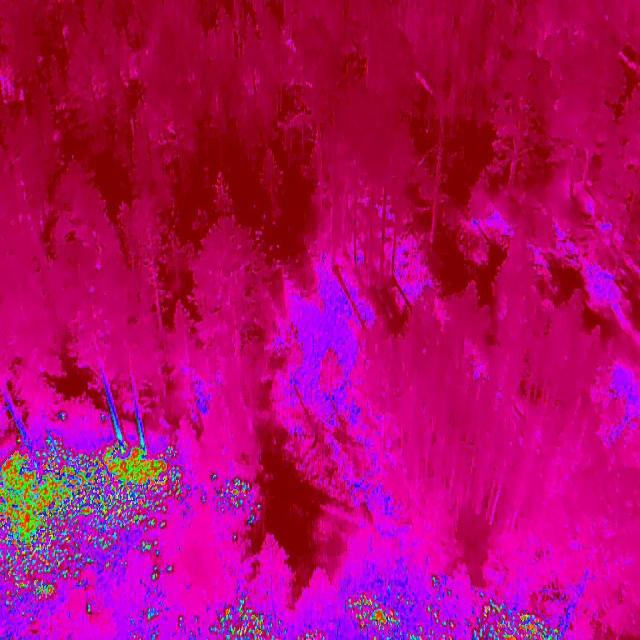fire: (0, 436, 188, 640), (204, 566, 566, 640), (205, 473, 266, 531)
